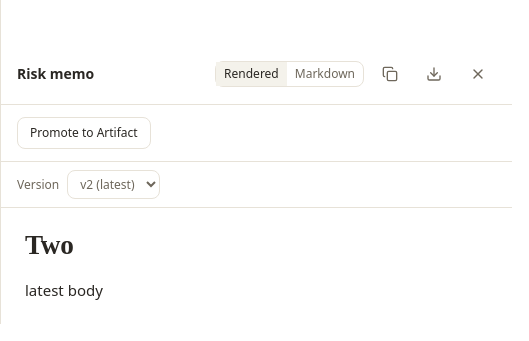
Test case: CanvasPane › toggles between Rendered and Markdown
Expected: the text "latest body" is shown, [25,280,103,300]
Click the button "Markdown" at {"x": 325, "y": 74}, box [287,62,363,86]
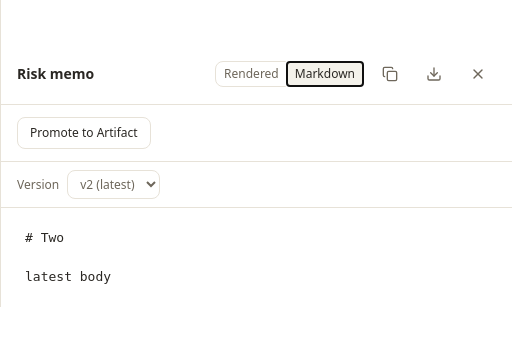
Expected: the text "# Two latest body" is shown, [25,230,111,284]
